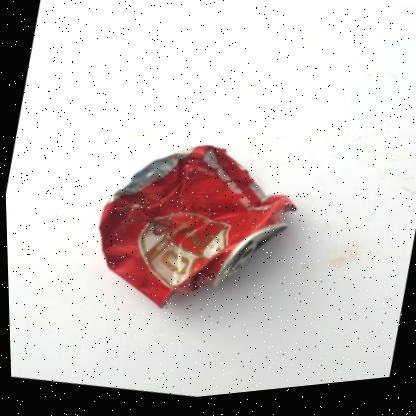Metal: (97, 150, 293, 311)
